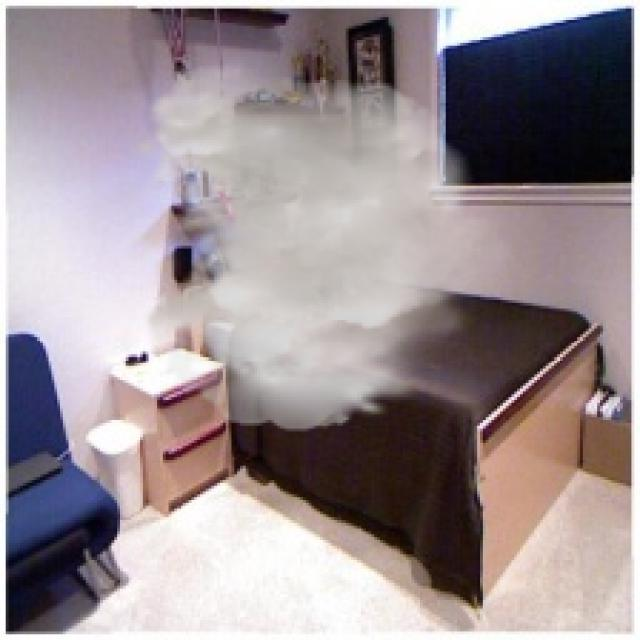Smoke: (135, 62, 520, 432)
